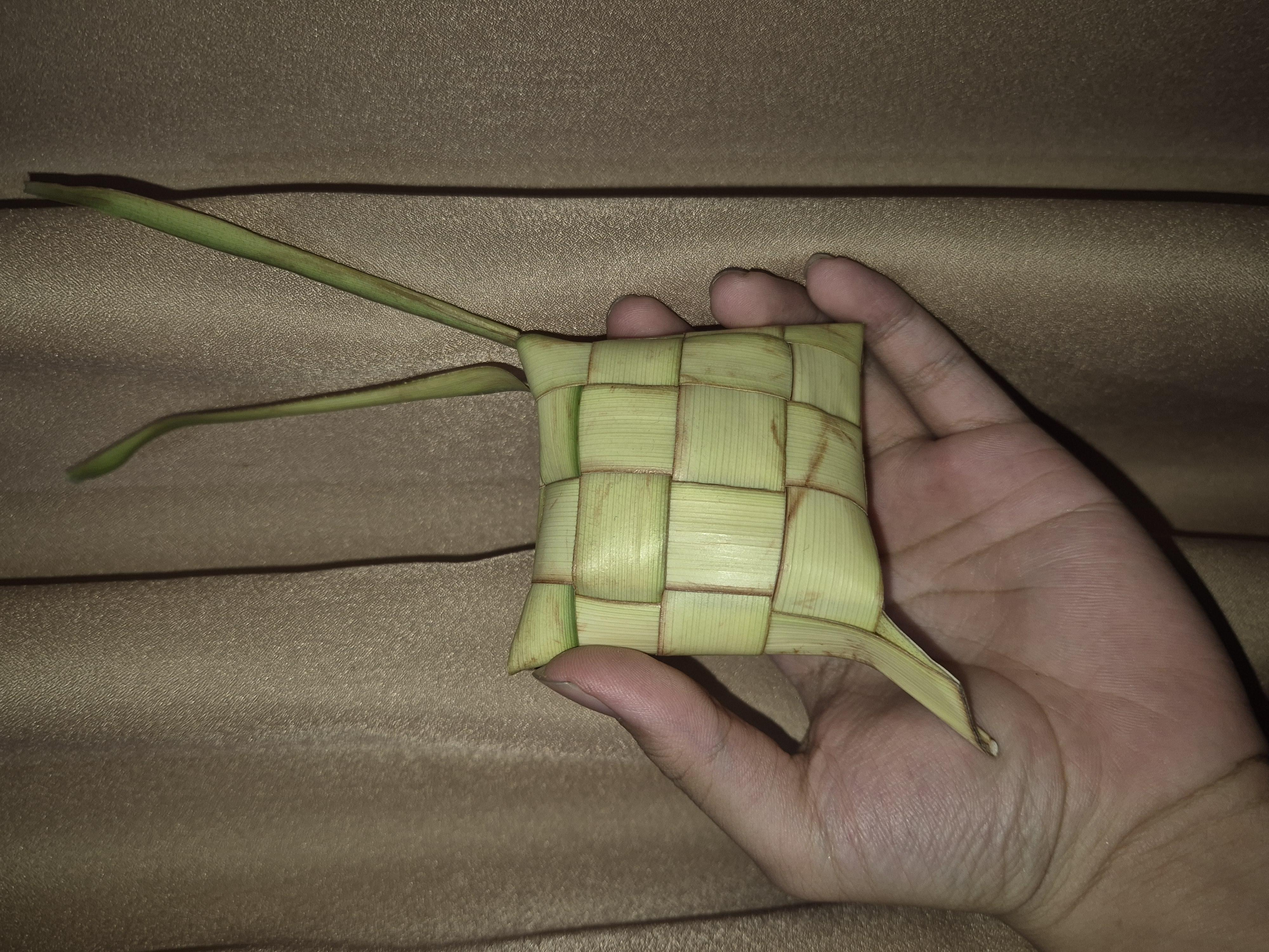Tipat Nasi: (373, 382, 836, 662)
